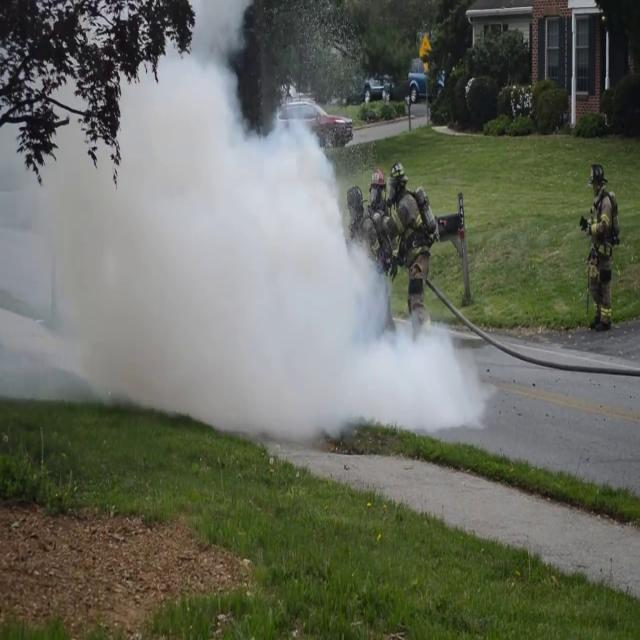Smoke: (2, 1, 454, 444)
